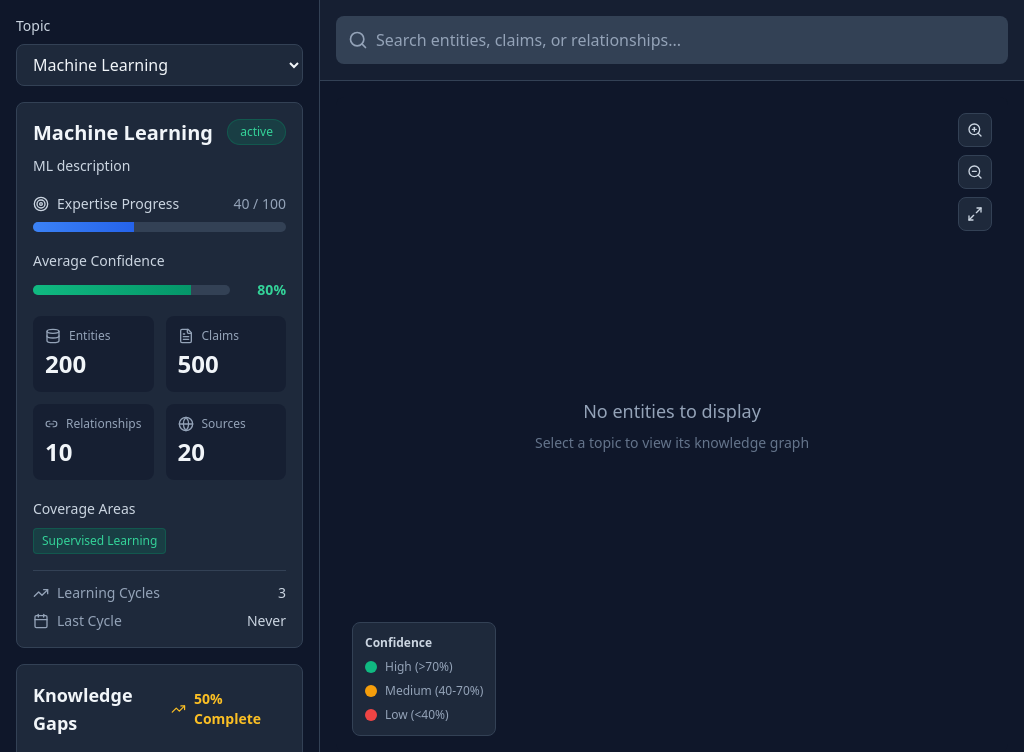
Test case: KnowledgeExplorerPage › performs a search and shows search error on failure
This screenshot has width=1024, height=752.
In the field with placeholder "Search entities, claims, or relationships...": (672, 40) [336,16,1008,64], type "neural"
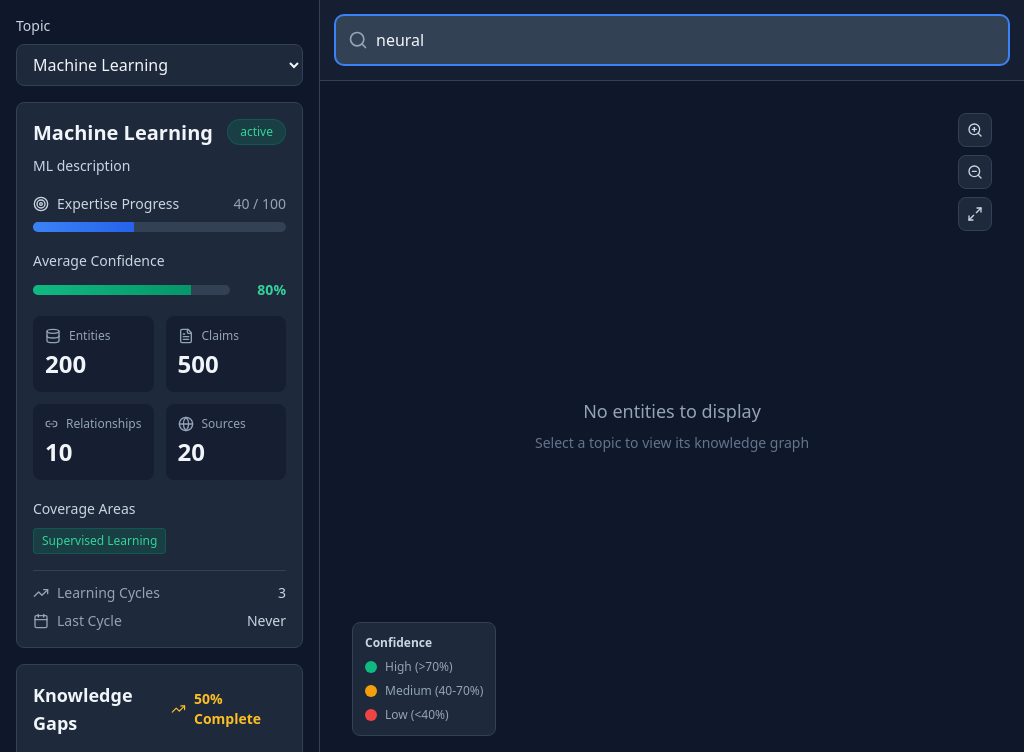
Press Enter
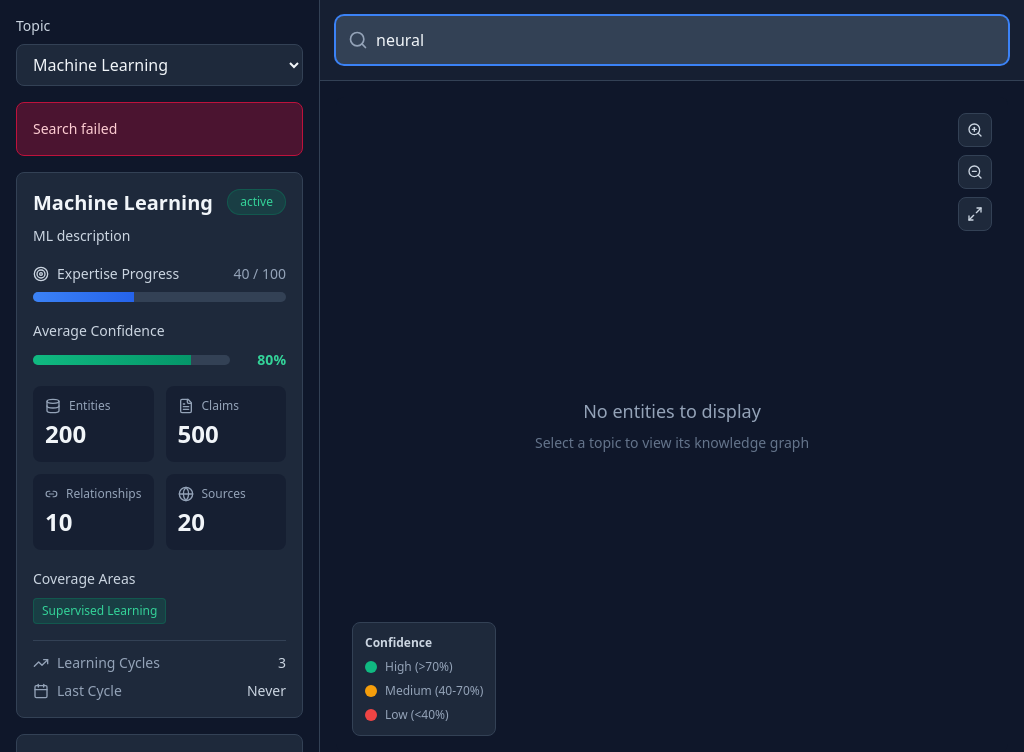
Expected: the text "Search failed" is shown, [16,102,303,156]
